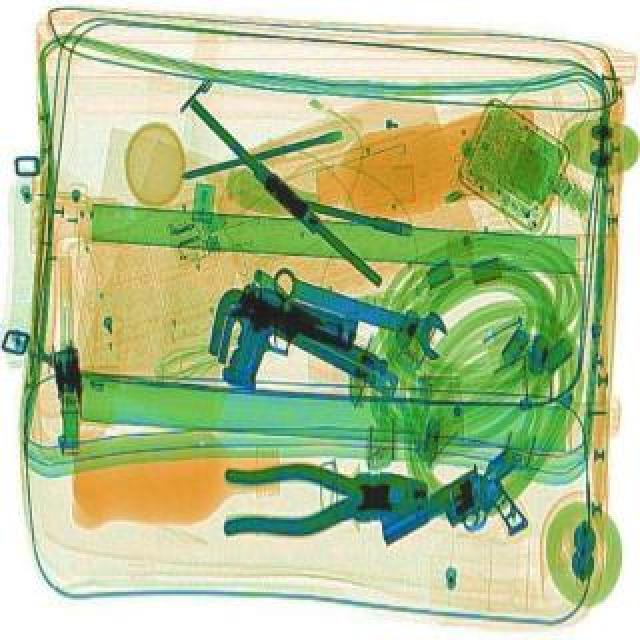gun: (370, 460, 532, 594), (208, 286, 364, 418)
scissors: (262, 262, 458, 366)
wrench: (220, 462, 428, 546)
